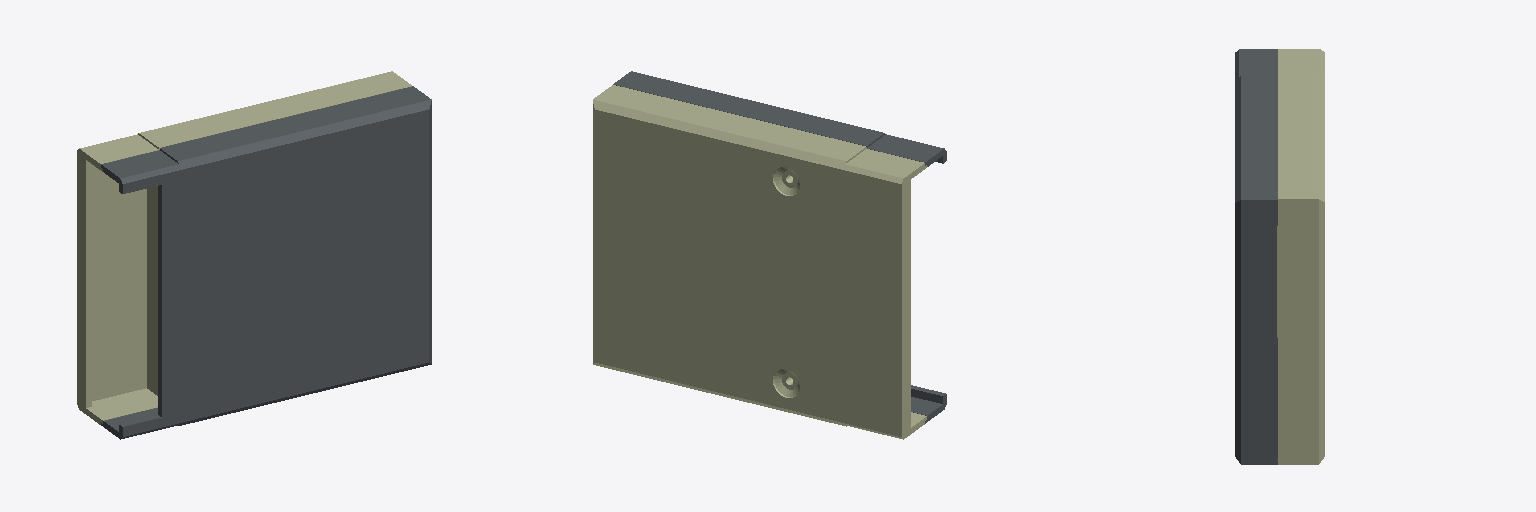
File: tinker.obj
3 renders of one model, left to right at view 1: azimuth 30°, elevation 25°; view 2: azimuth 150°, elevation 25°; view 3: azimuth 270°, elevation 25°, orthographic.
Visible parts, largest first — view 1: obj_0; view 2: obj_0; view 3: obj_0.
Boxes of the visible parts, box(x1,y1,x2,y2) form: obj_0: box(77, 71, 431, 439); obj_0: box(593, 71, 946, 439); obj_0: box(1235, 49, 1324, 464).
Size of the model in its own units: 80.16 by 65 by 20.2.